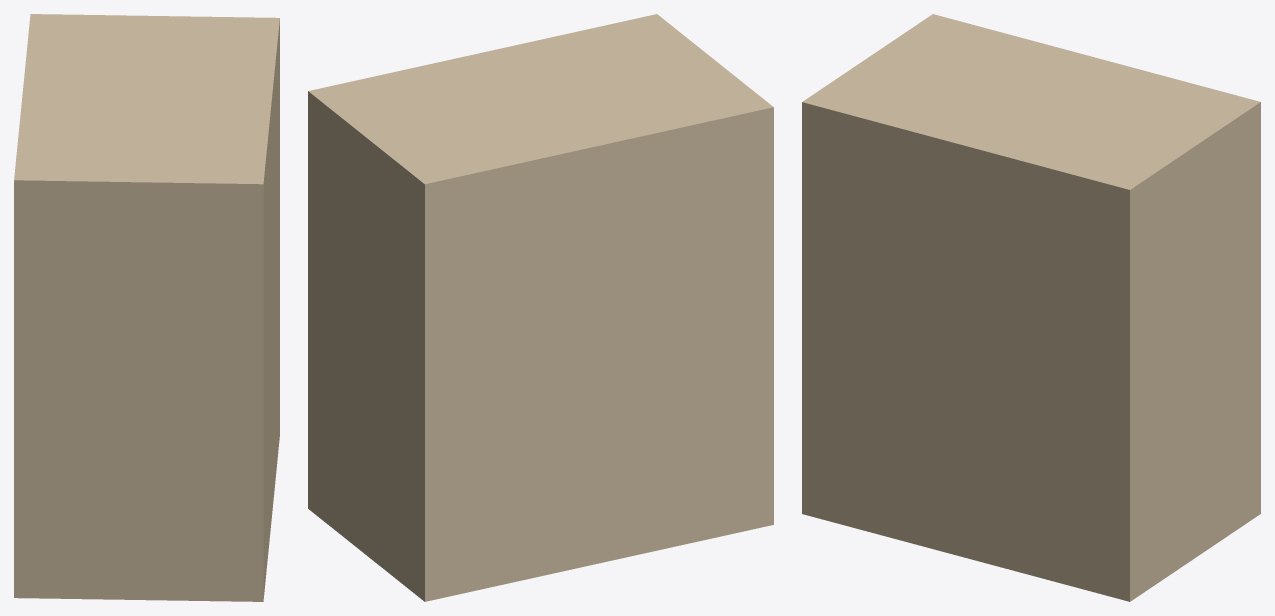
The model's file is -13_-4-estimated-coarse.glb.
The picture shows the model from 3 angles, left to right: view 1: azimuth 30°, elevation 25°; view 2: azimuth 150°, elevation 25°; view 3: azimuth 270°, elevation 25°; orthographic projection.
Size of the model in its own units: 11 by 12 by 12.11.
